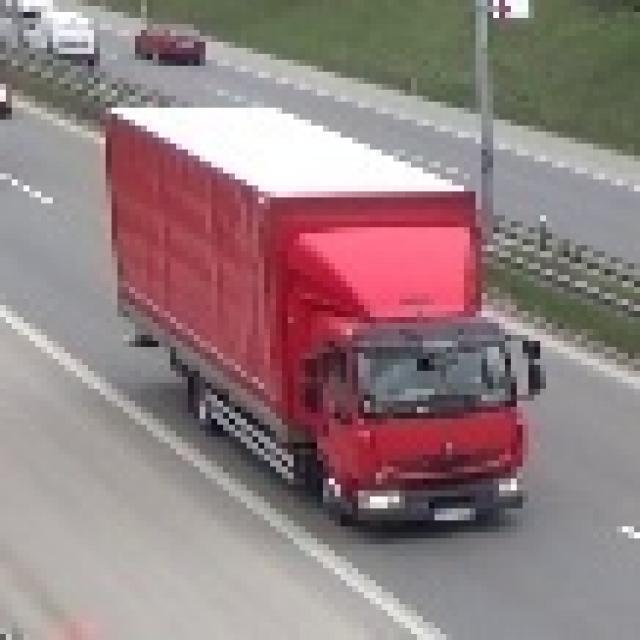truck: (111, 96, 552, 526)
